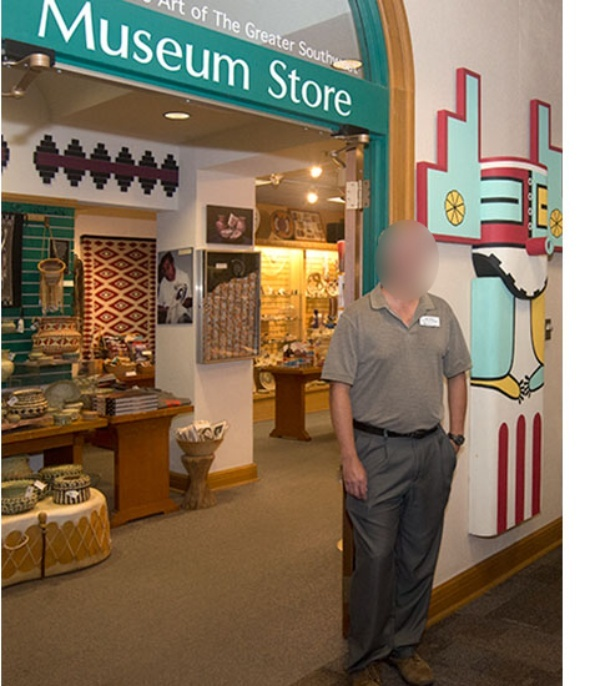text: (49, 1, 64, 94), (65, 1, 80, 94), (81, 1, 96, 94), (97, 1, 112, 94), (113, 1, 128, 94), (129, 1, 144, 94), (145, 1, 160, 94), (161, 1, 176, 94), (177, 1, 192, 94), (193, 1, 208, 94), (209, 1, 224, 94), (225, 1, 240, 94), (241, 1, 256, 94), (273, 55, 288, 119), (289, 55, 304, 119), (305, 55, 320, 119), (321, 55, 336, 119), (337, 55, 352, 119), (305, 38, 320, 78), (321, 38, 336, 78), (337, 38, 352, 78), (257, 19, 272, 54), (273, 19, 288, 54), (353, 38, 365, 78), (225, 7, 240, 38), (245, 19, 256, 54), (266, 55, 272, 119), (213, 7, 224, 38), (193, 4, 209, 24), (297, 38, 304, 78), (161, 1, 176, 19), (289, 19, 296, 54), (177, 1, 188, 19), (353, 55, 354, 119), (190, 4, 192, 24), (241, 7, 242, 38), (159, 1, 160, 19)
